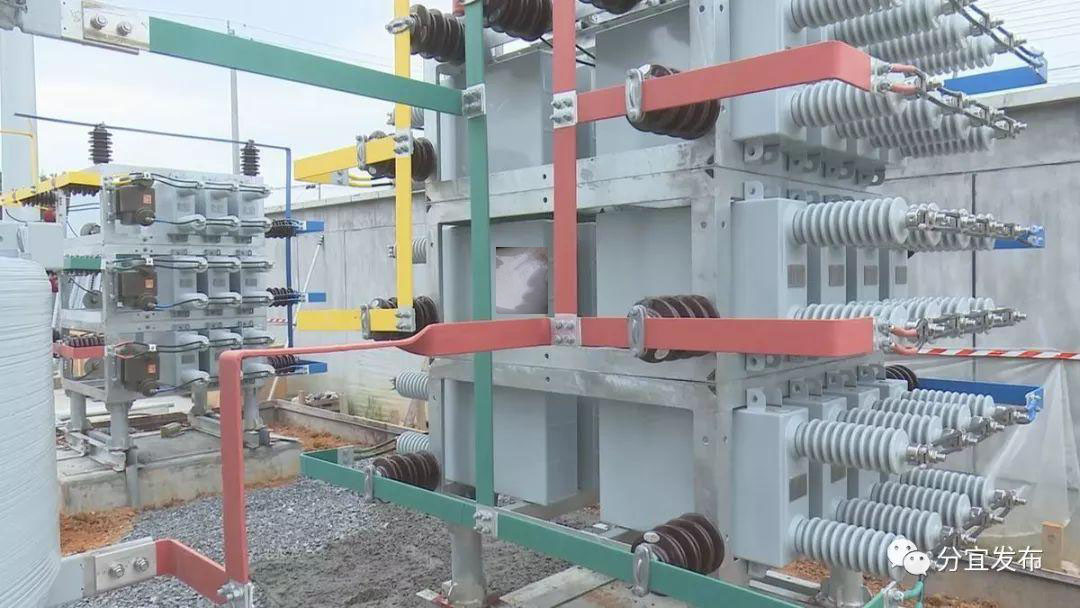oil: (496, 245, 553, 317)
